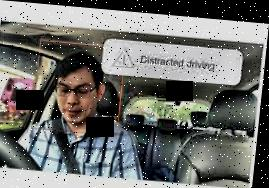seatbelt: (50, 106, 90, 173)
